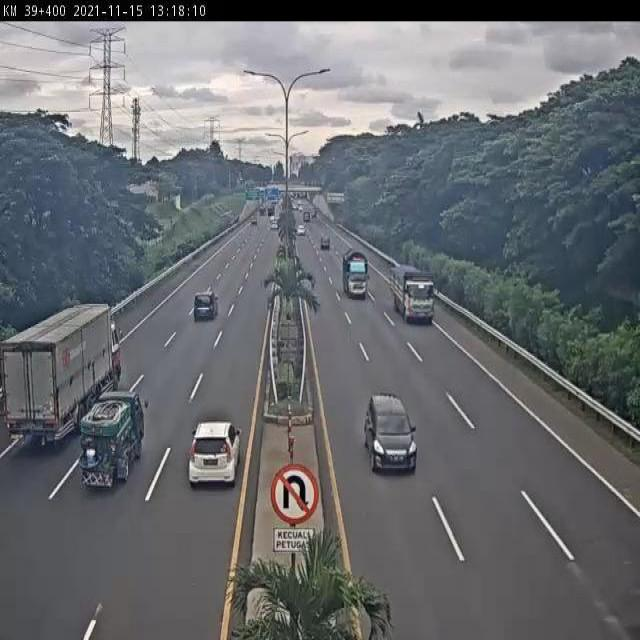car: (365, 394, 419, 474), (188, 419, 244, 489), (192, 288, 220, 323)
truck-l-: (3, 301, 122, 447), (390, 261, 436, 324)
truck-m-: (79, 391, 147, 486), (342, 248, 370, 299)
